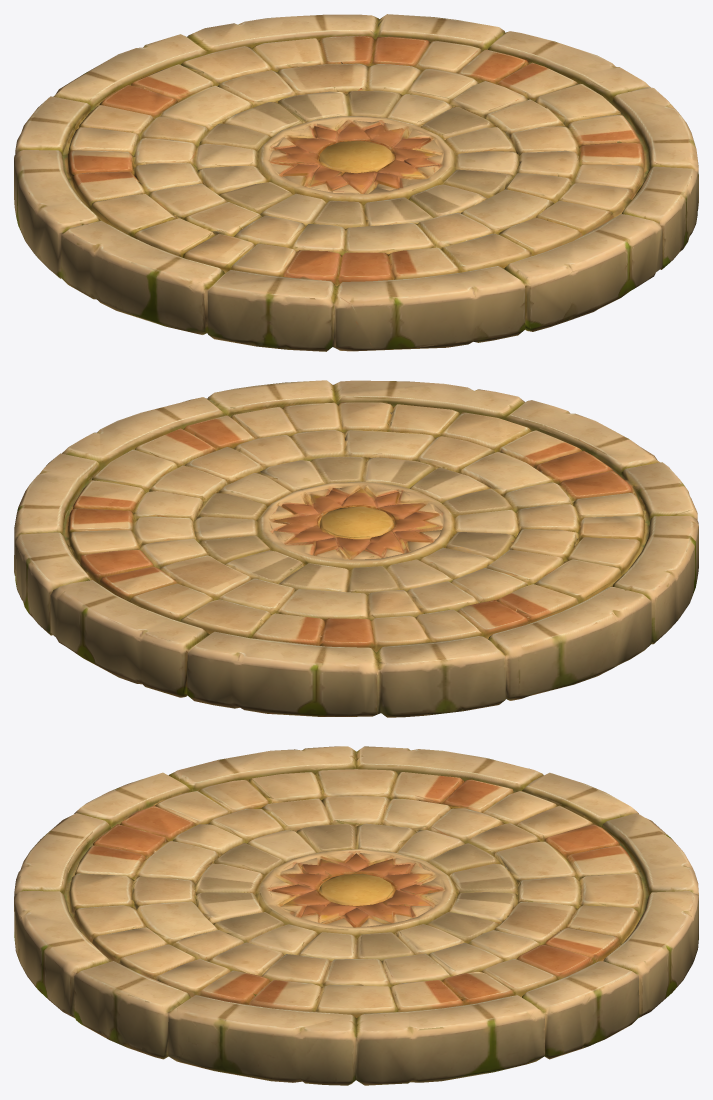
Rendered from plaza-tile.glb.
3 renders of one model, top to bottom at view 1: azimuth 30°, elevation 25°; view 2: azimuth 150°, elevation 25°; view 3: azimuth 270°, elevation 25°, orthographic.
Visible parts, largest first — view 1: Mesh1.0; view 2: Mesh1.0; view 3: Mesh1.0.
Boxes of the visible parts, x1,y1,x2,y2 form: Mesh1.0: [14, 14, 698, 351]; Mesh1.0: [14, 380, 698, 717]; Mesh1.0: [14, 746, 698, 1085].
Size of the model in its own units: 1.9 by 0.1739 by 1.9.
1 material, 1 textured.
